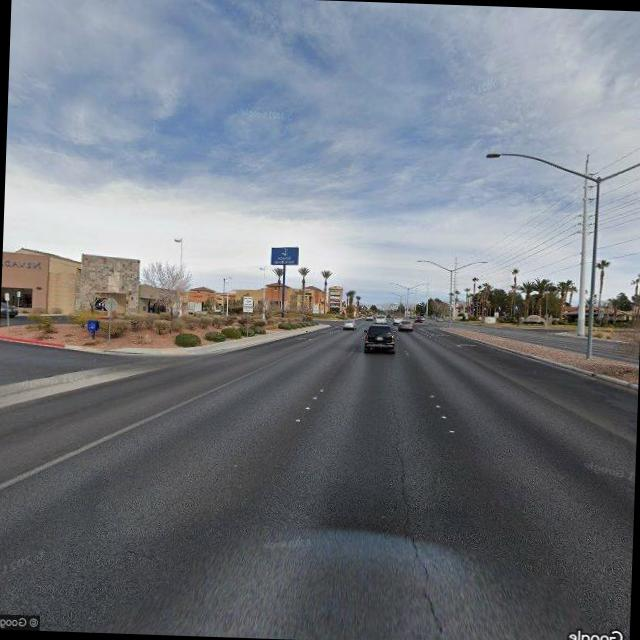pothole: (380, 398, 446, 636)
